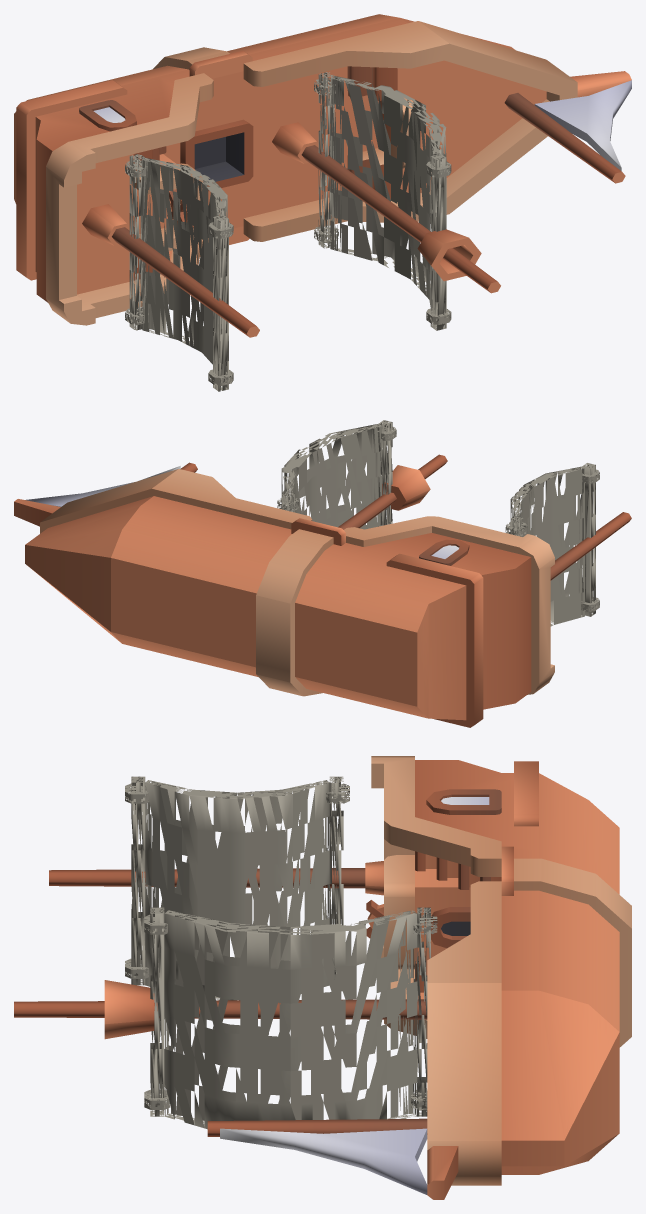
The model's file is SM_Wreck_Large.obj.
3 views of the same model, one above another, from view 1: azimuth 30°, elevation 25°; view 2: azimuth 150°, elevation 25°; view 3: azimuth 270°, elevation 25° (orthographic). The views are drawn at different scales.
Visible parts, largest first — view 1: SM_Wreck_Large; view 2: SM_Wreck_Large; view 3: SM_Wreck_Large.
Part boxes in pixels (<box>): SM_Wreck_Large: <box>14,14,631,391</box>; SM_Wreck_Large: <box>14,420,631,727</box>; SM_Wreck_Large: <box>14,756,631,1199</box>.
Size of the model in its own units: 4200 by 1262 by 3194.
2 materials, 1 textured.
